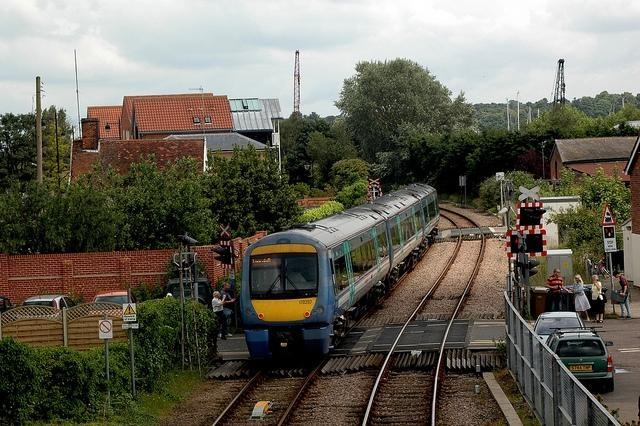car: (546, 326, 616, 392), (15, 293, 74, 320), (534, 312, 585, 342), (86, 289, 138, 318), (0, 296, 12, 313)
